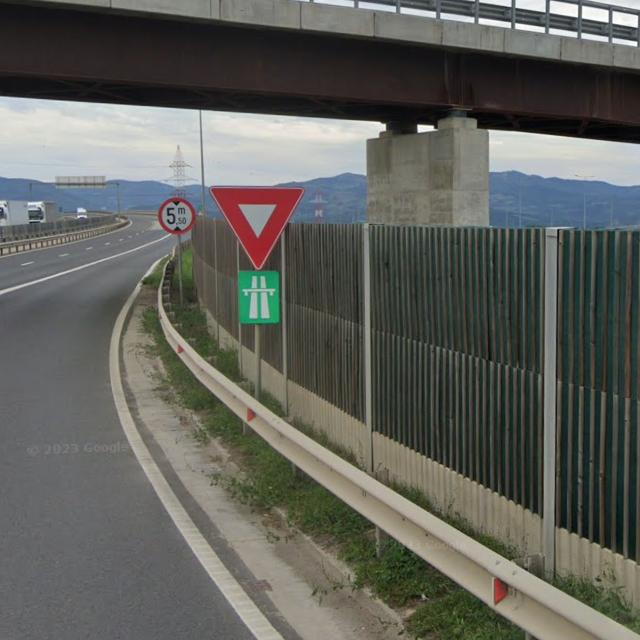info_highway: (238, 270, 281, 324)
prio_give_way: (208, 185, 306, 270)
